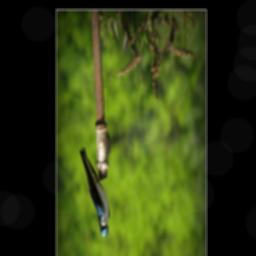Swallow: (79, 144, 110, 239)
